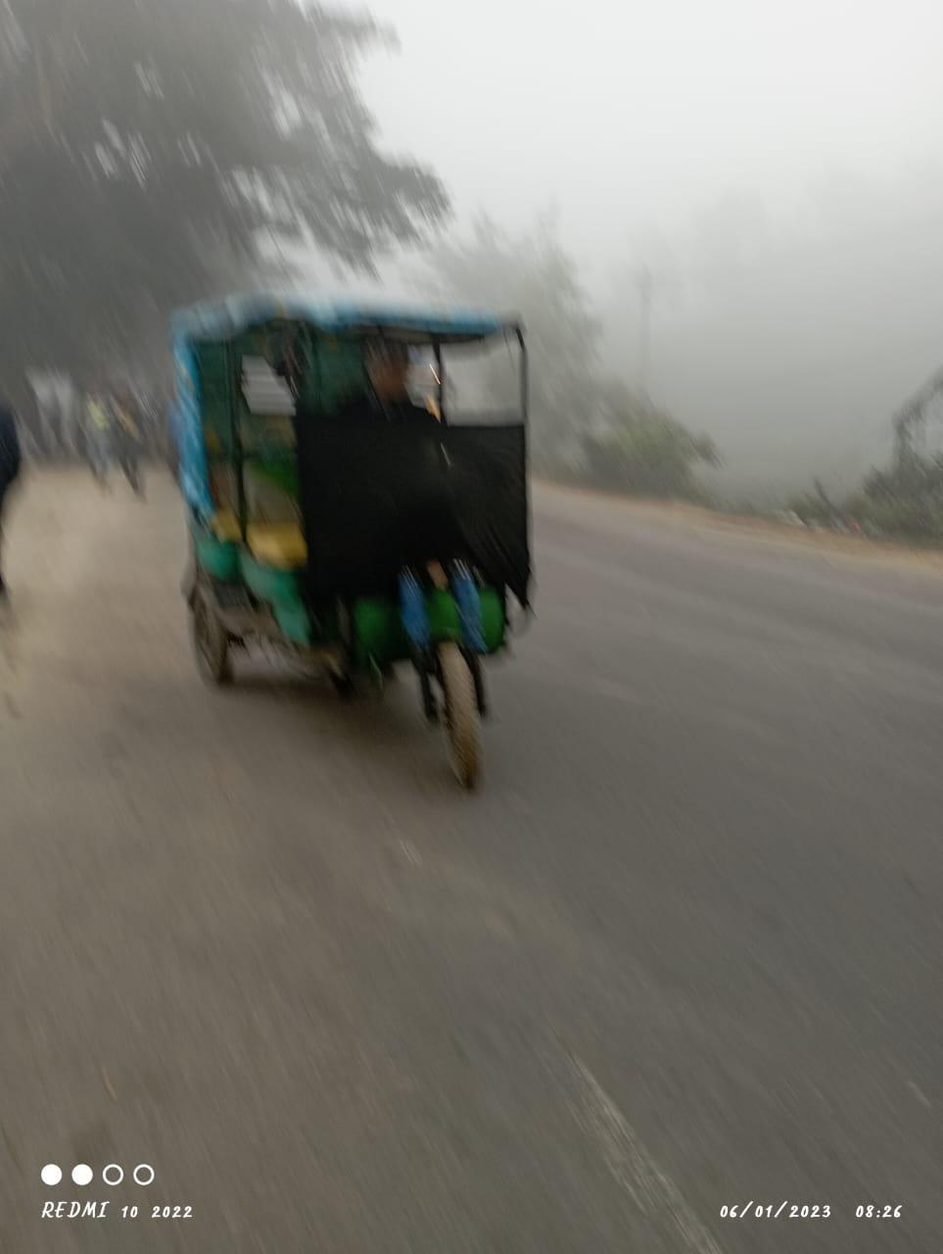Car: (158, 277, 556, 796)
